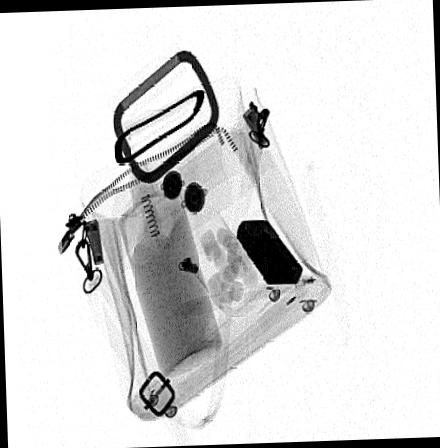Lighter: (236, 218, 303, 285)
